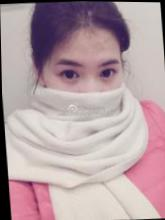WRONG: (36, 36, 130, 129)
